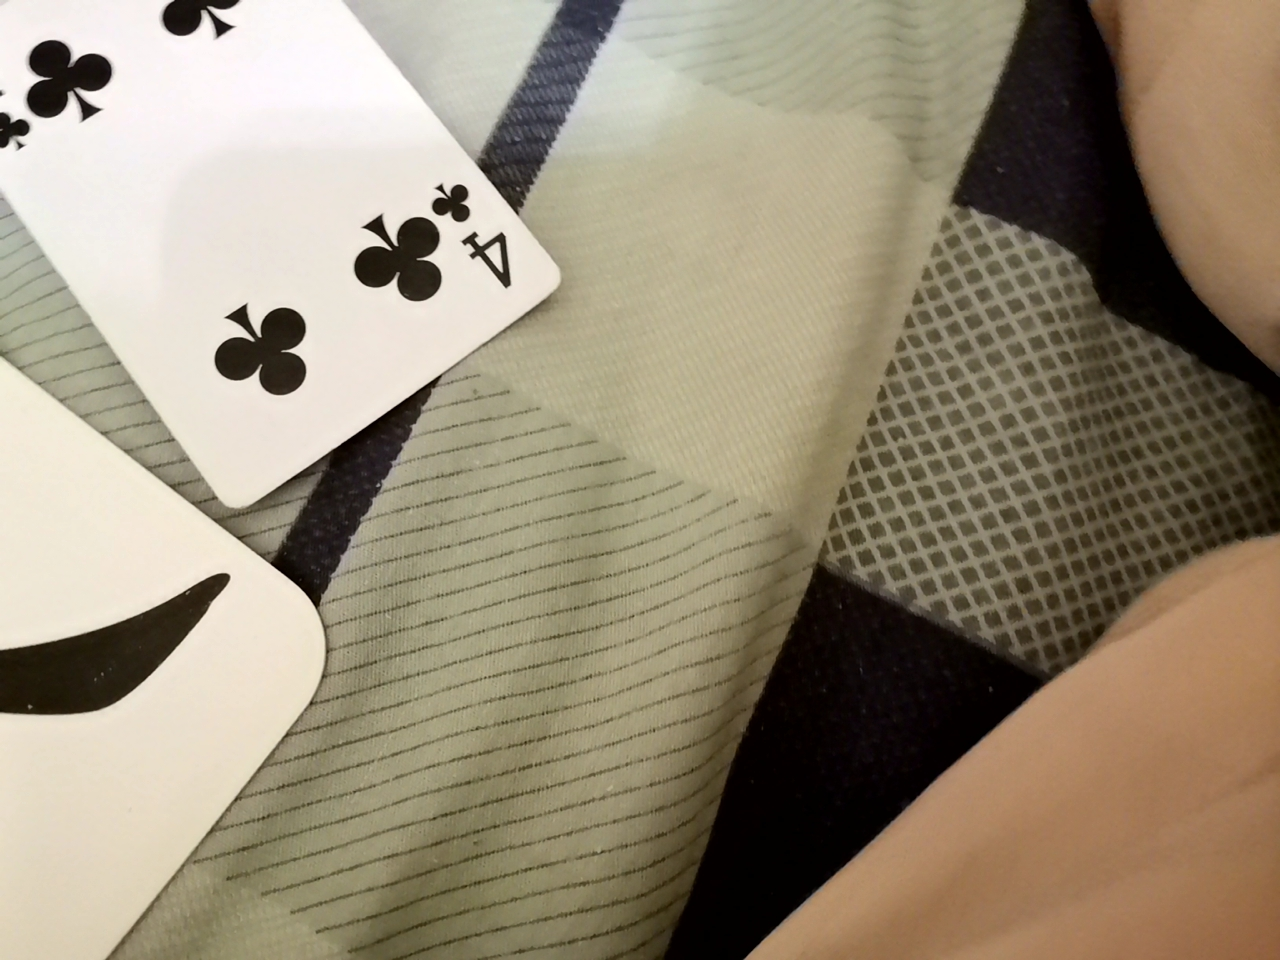mh 4: (4, 12, 562, 568)
